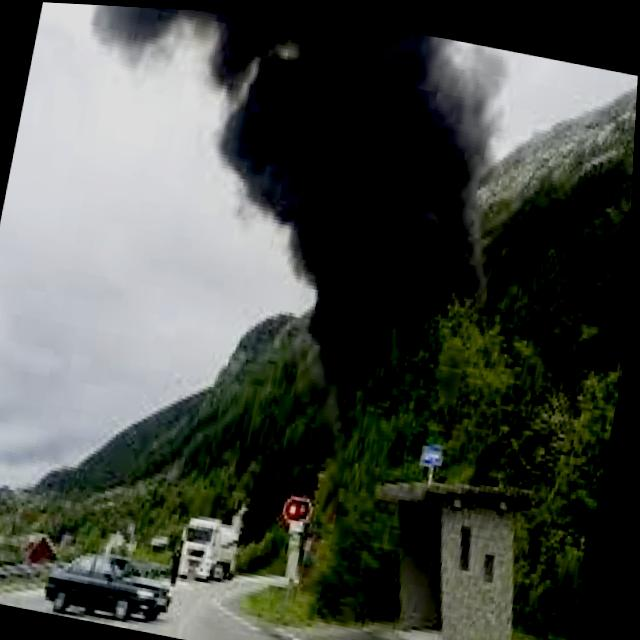no_helmet: (147, 7, 551, 410)
